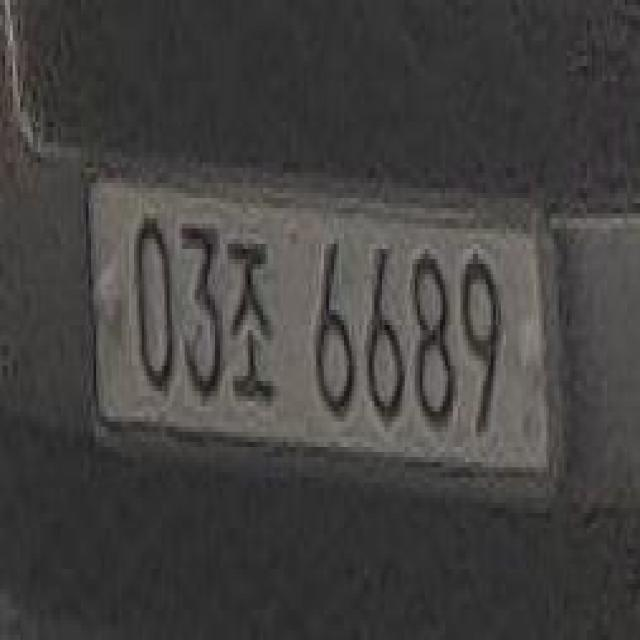illegal_plate: (89, 166, 560, 512)
